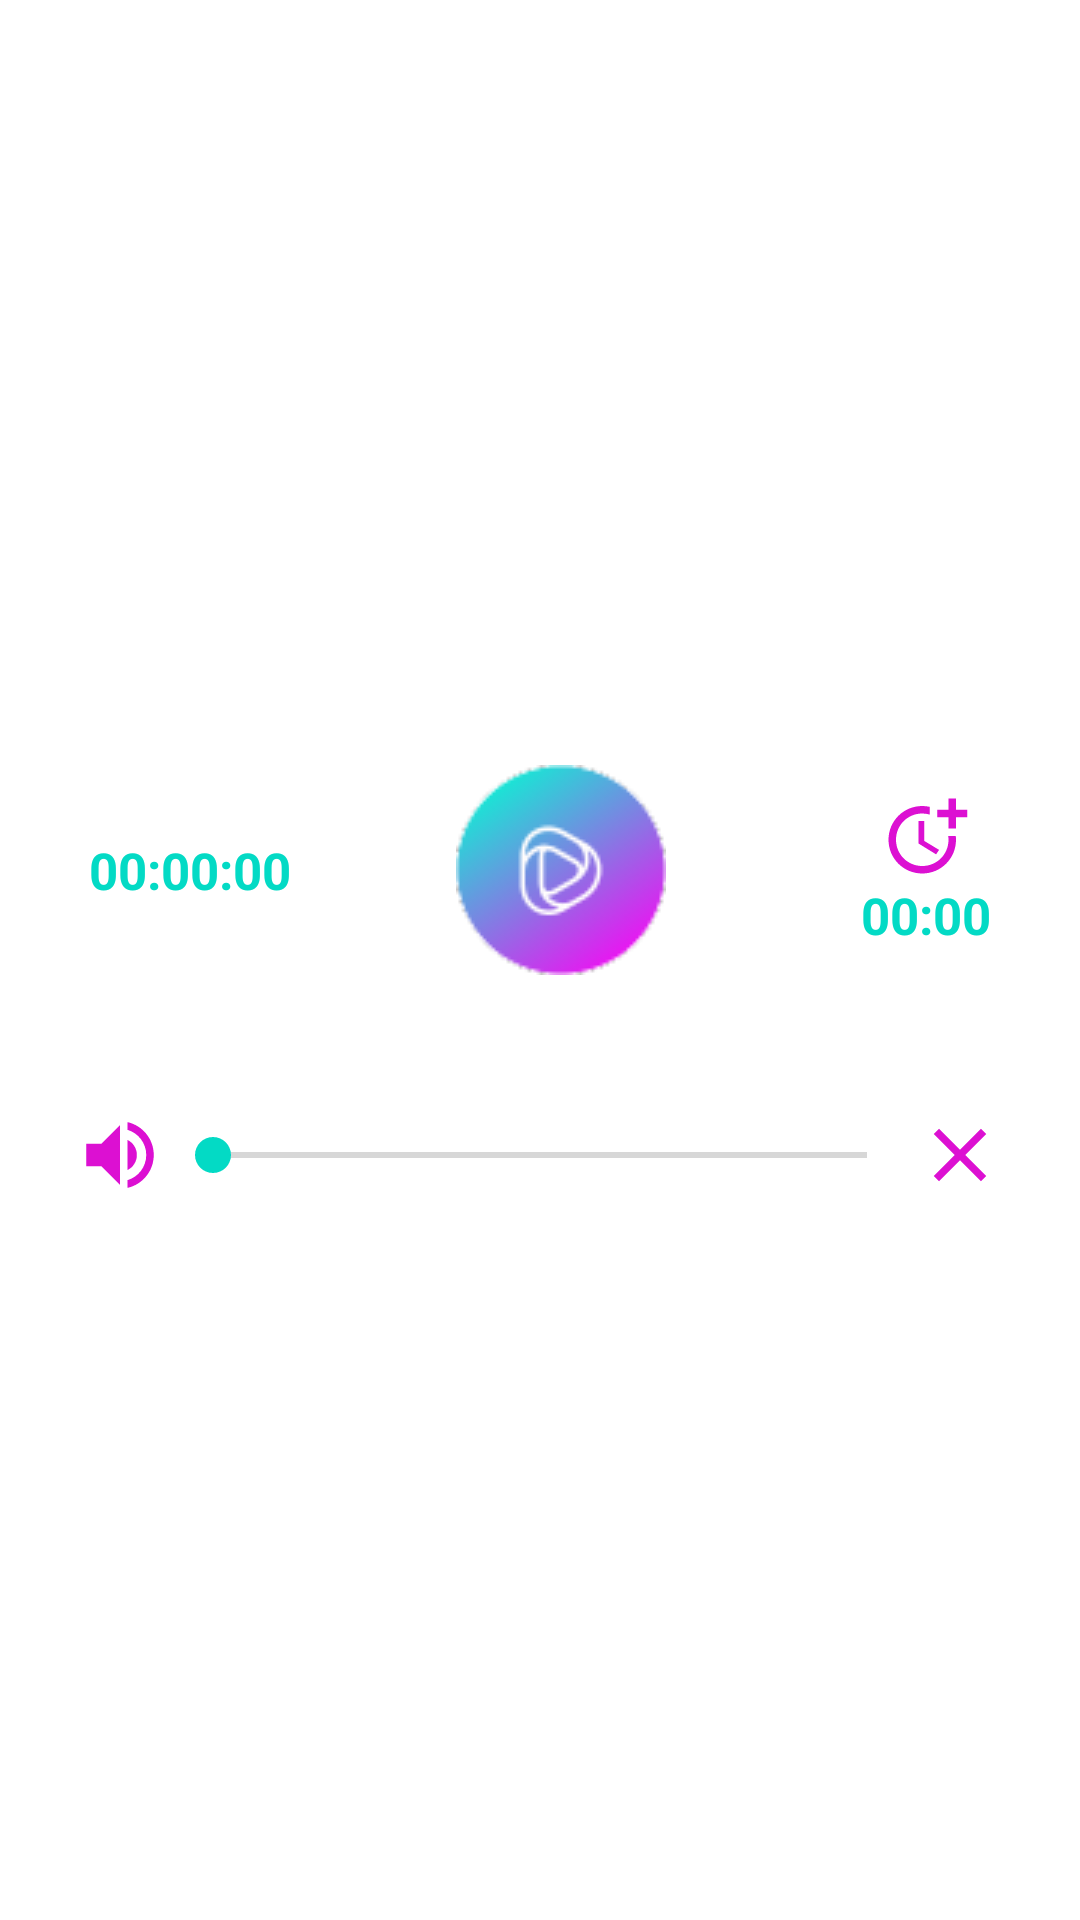

Where icons sit on this 1080*1920 app screen, as Rect(x1, y1, x2, y2):
close: Rect(934, 1129, 986, 1181)
iconplay: Rect(456, 765, 666, 975)
more time: Rect(888, 798, 968, 874)
volume up: Rect(86, 1122, 154, 1188)
